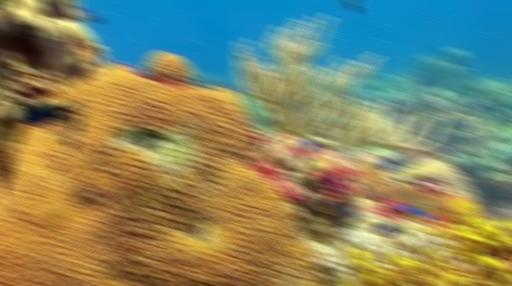Fish: (23, 102, 72, 125), (373, 221, 402, 235), (77, 6, 102, 22), (378, 157, 403, 171), (336, 203, 357, 219), (301, 139, 320, 153), (397, 206, 418, 214), (345, 0, 358, 12), (416, 210, 431, 219), (204, 82, 217, 90), (374, 193, 383, 202)
